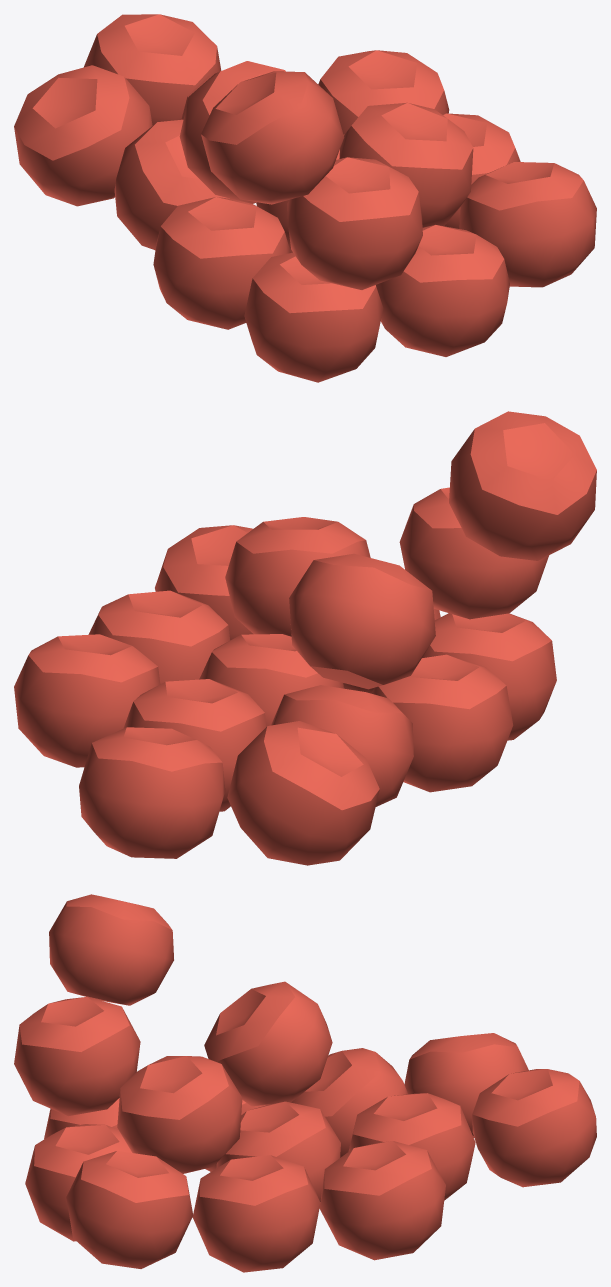
File: SM_Apple_B.fbx
3 renders of one model, top to bottom at view 1: azimuth 30°, elevation 25°; view 2: azimuth 150°, elevation 25°; view 3: azimuth 270°, elevation 25°, orthographic. The views are drawn at different scales.
Visible parts, largest first — view 1: Icosphere; view 2: Icosphere; view 3: Icosphere.
Boxes of the visible parts, left/top/right/bottom form: Icosphere: left=14, top=14, right=596, bottom=382; Icosphere: left=14, top=411, right=596, bottom=865; Icosphere: left=14, top=894, right=596, bottom=1272.
Bounding box in the file's own units: 37.57 × 27.78 × 54.31.
